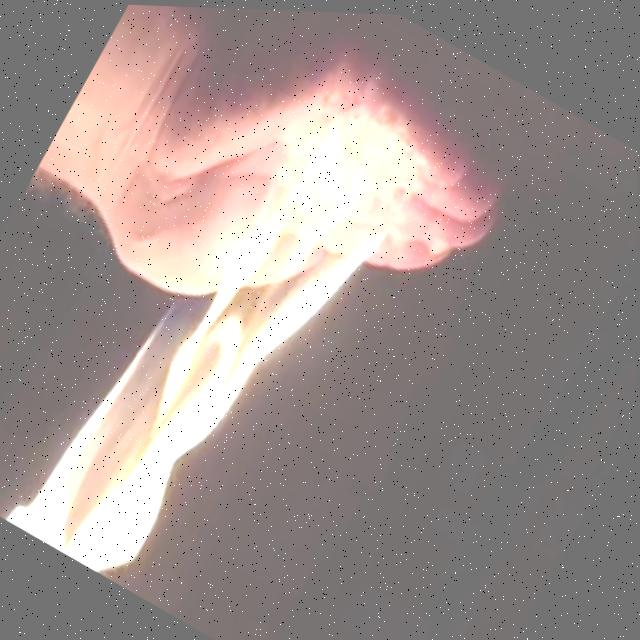Fire: (2, 64, 434, 627)
